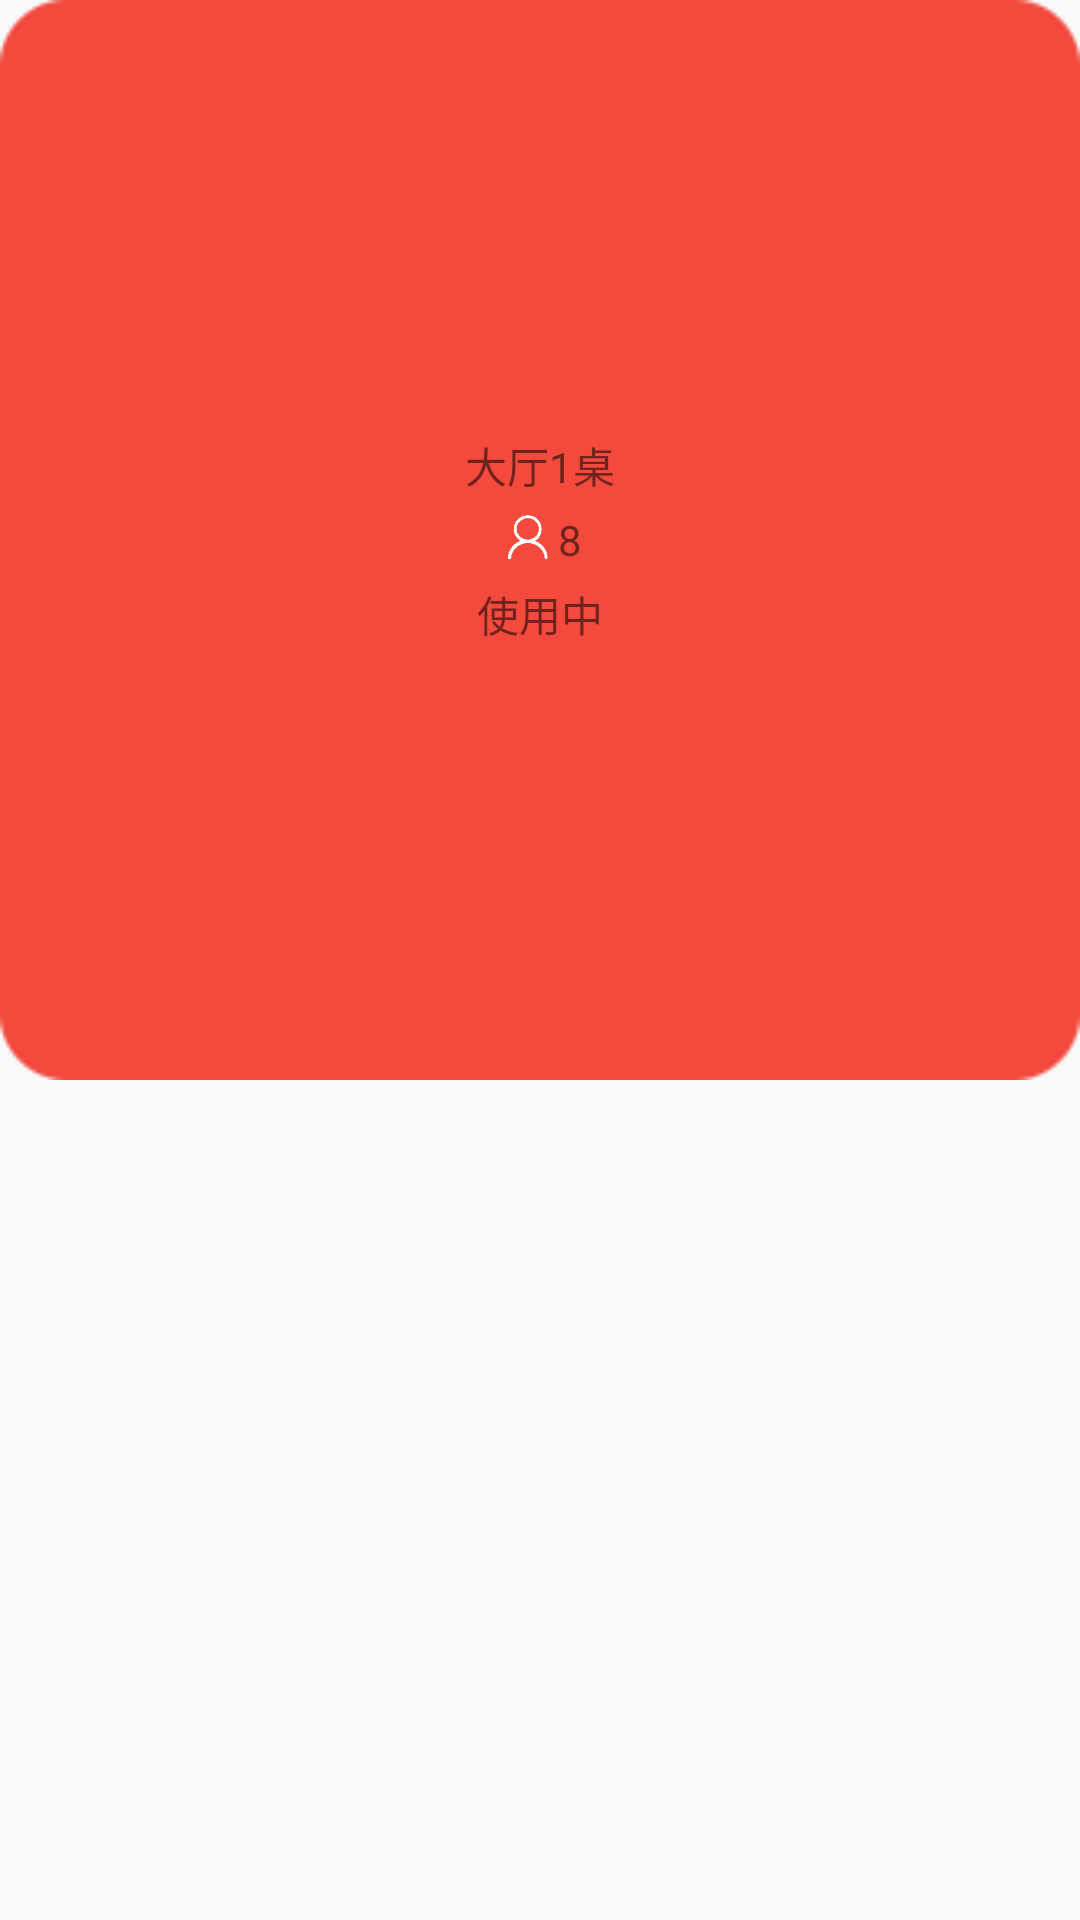

Icon bounding boxes for this 1080×1920 phone screenshot, format (x1,y1,x2,y2):
manlight: (508,515,548,559)
